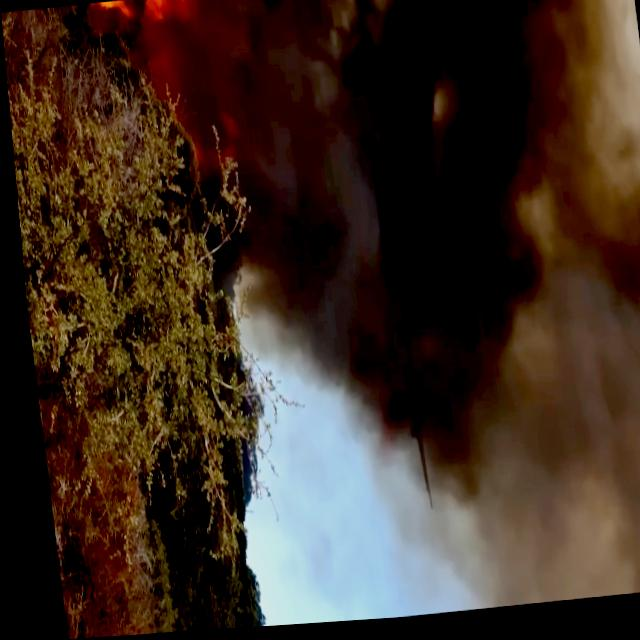no_helmet: (220, 0, 640, 628)
